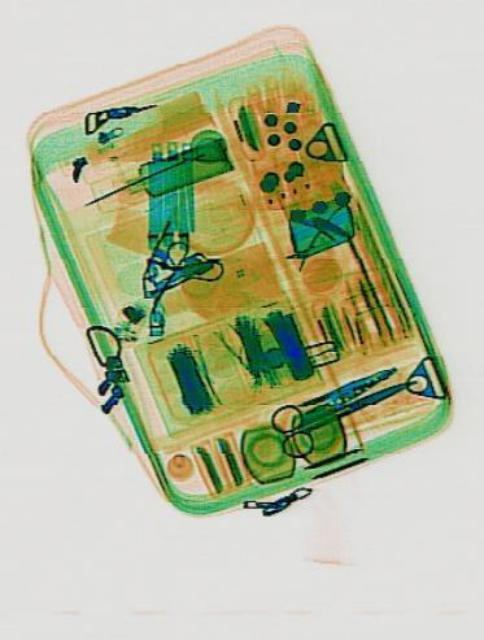Scissors: (266, 352, 421, 463)
